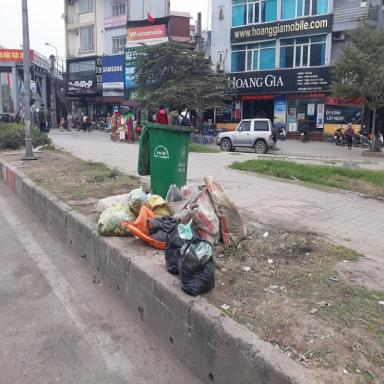plasticbag: (141, 181, 237, 275), (206, 175, 248, 240), (175, 228, 214, 296), (95, 190, 150, 234)
